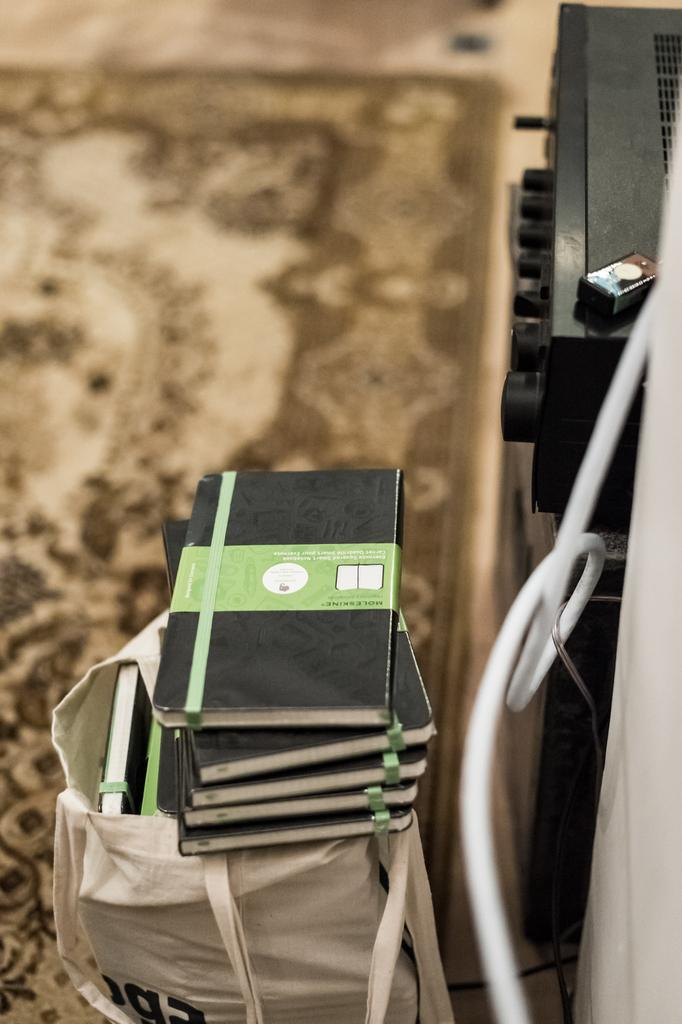Luggage-and-bags: (47, 604, 434, 1023)
